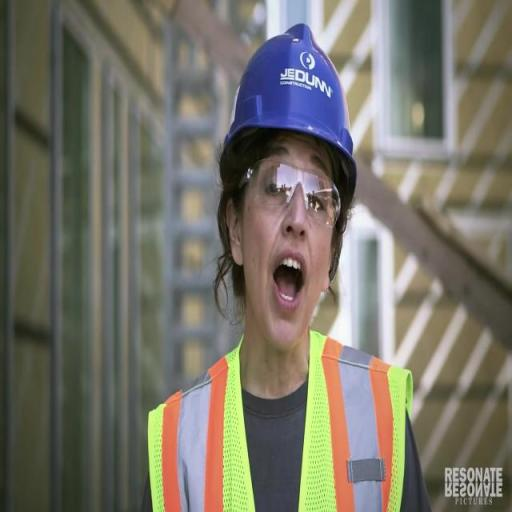helmet: (212, 21, 362, 200)
vest: (145, 327, 420, 512)
